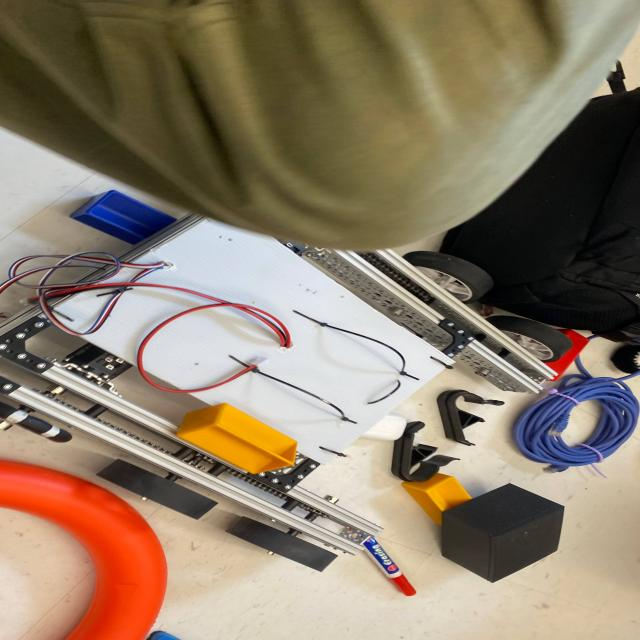blue-specimen: (70, 190, 176, 245)
red-specimen: (545, 328, 589, 382)
yellow-specimen: (177, 403, 296, 474), (402, 473, 471, 524)
